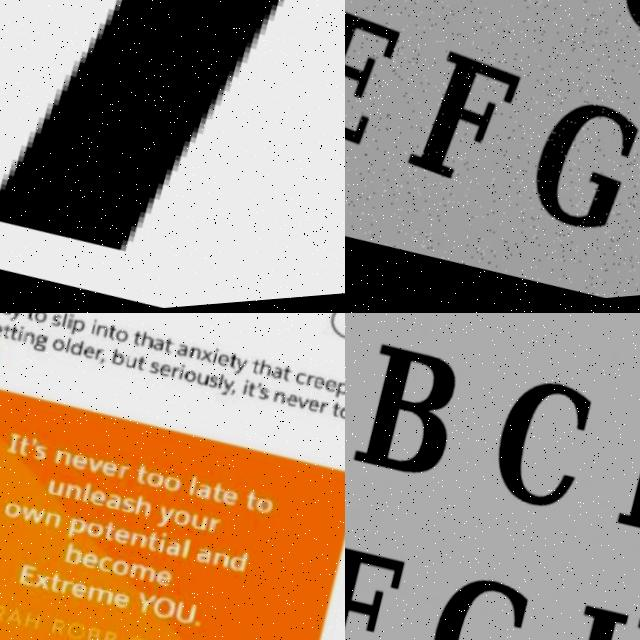A: (157, 544, 176, 565), (188, 551, 207, 572), (0, 609, 18, 630), (170, 347, 189, 366), (189, 488, 208, 507), (100, 498, 119, 517), (147, 342, 164, 360), (264, 372, 281, 390)
B: (58, 547, 79, 570), (107, 353, 124, 373), (77, 629, 96, 640), (93, 633, 111, 640)
C: (90, 558, 109, 580), (290, 378, 306, 394)
D: (221, 555, 244, 581), (66, 343, 83, 361)
E: (104, 595, 125, 616), (12, 567, 32, 589), (63, 583, 83, 604), (74, 554, 93, 576), (66, 456, 85, 477), (95, 463, 114, 484), (215, 494, 234, 515), (83, 492, 102, 513), (107, 530, 126, 551), (149, 572, 168, 593), (318, 384, 335, 402), (300, 405, 317, 423), (307, 383, 323, 399), (78, 348, 94, 364), (154, 368, 170, 384), (280, 400, 296, 416), (213, 359, 229, 374)
G: (30, 336, 47, 356)
H: (129, 501, 149, 523), (16, 614, 36, 635), (255, 365, 272, 385), (137, 336, 154, 354)
I: (0, 0, 345, 313), (3, 436, 19, 457), (150, 537, 163, 560), (238, 385, 247, 404), (208, 354, 218, 370), (86, 324, 96, 339), (174, 370, 183, 386), (62, 318, 70, 332), (14, 331, 22, 345)
L: (182, 482, 194, 501), (175, 544, 185, 565), (77, 487, 86, 506), (214, 379, 223, 396), (62, 342, 70, 357), (58, 317, 66, 331)
M: (79, 586, 108, 611), (122, 566, 152, 589)
N: (48, 450, 69, 471), (59, 485, 80, 506), (205, 556, 226, 577), (38, 512, 57, 533), (122, 536, 143, 555), (184, 350, 201, 368), (18, 332, 35, 350), (267, 396, 284, 414), (92, 328, 108, 344)
O: (144, 600, 172, 627), (140, 475, 162, 496), (249, 501, 270, 523), (167, 512, 188, 534), (105, 561, 126, 583), (157, 479, 178, 500), (79, 524, 100, 544), (0, 502, 19, 524), (177, 372, 196, 391), (111, 331, 128, 349), (47, 340, 65, 357), (58, 624, 77, 640), (331, 412, 345, 431), (29, 313, 46, 328)
P: (62, 519, 83, 545), (329, 388, 345, 409), (67, 323, 84, 341)
R: (42, 620, 60, 640), (111, 467, 128, 485), (202, 522, 217, 541), (52, 582, 67, 599), (166, 371, 178, 386), (314, 409, 326, 424), (91, 352, 101, 366), (303, 382, 312, 395)
S: (28, 444, 47, 466), (114, 499, 133, 520), (47, 317, 62, 333), (145, 366, 159, 381), (204, 381, 215, 396), (254, 394, 265, 409), (0, 313, 11, 319)
T: (40, 575, 59, 597), (138, 535, 156, 557), (12, 438, 29, 461), (237, 496, 254, 519), (130, 470, 146, 491), (95, 526, 111, 547), (205, 489, 220, 510), (246, 364, 260, 383), (103, 328, 116, 345), (129, 334, 142, 351), (159, 343, 172, 360), (277, 373, 290, 390), (132, 359, 145, 376), (242, 388, 255, 405), (326, 410, 339, 427), (223, 360, 236, 376), (6, 328, 17, 344), (0, 325, 10, 342), (22, 313, 35, 323)
U: (167, 605, 192, 633), (184, 518, 205, 539), (42, 483, 61, 502), (120, 359, 136, 375), (191, 377, 207, 393)
V: (80, 459, 99, 480), (290, 402, 308, 419)
W: (14, 506, 42, 529)
X: (27, 573, 46, 595), (194, 352, 214, 372)
Y: (128, 596, 151, 620), (150, 511, 171, 536), (229, 362, 247, 384), (216, 383, 233, 404), (6, 313, 23, 326)
